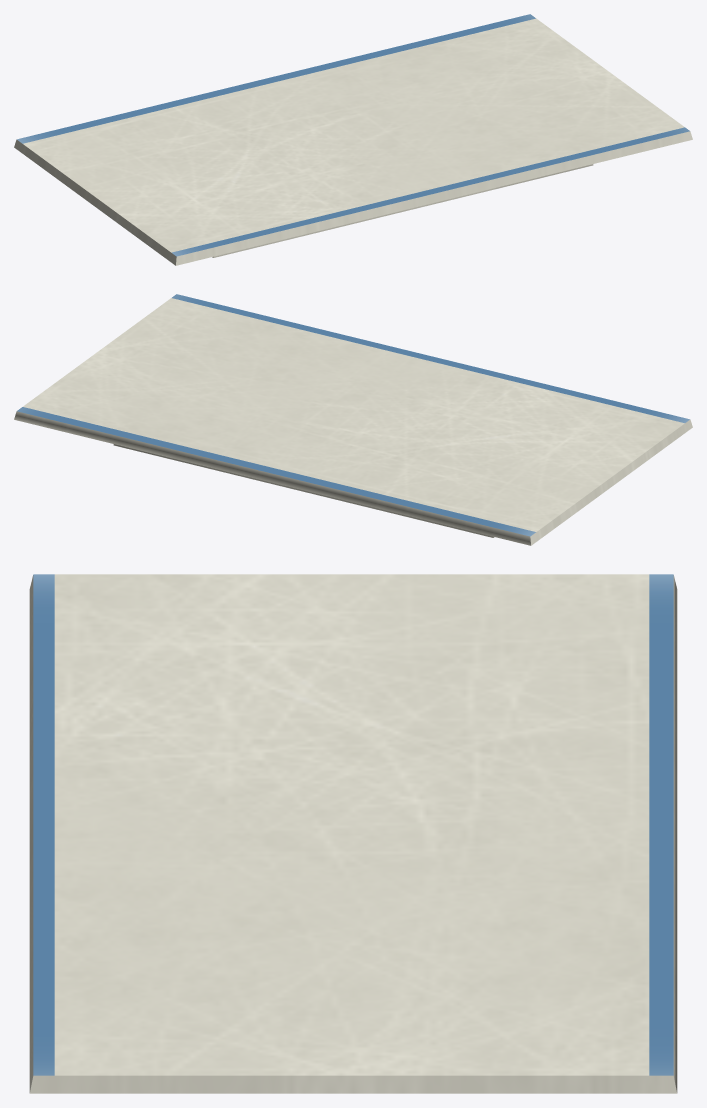
Rendered from dish05a.fbx.
The picture shows the model from 3 angles, top to bottom: view 1: azimuth 30°, elevation 25°; view 2: azimuth 150°, elevation 25°; view 3: azimuth 270°, elevation 25°; orthographic projection. The views are drawn at different scales.
Visible parts, largest first — view 1: dish05a; view 2: dish05a; view 3: dish05a.
Part boxes in pixels (<box>): dish05a: <box>14,14,692,265</box>; dish05a: <box>14,294,692,545</box>; dish05a: <box>29,574,677,1093</box>.
Size of the model in its own units: 32 by 2.37 by 17.35.
